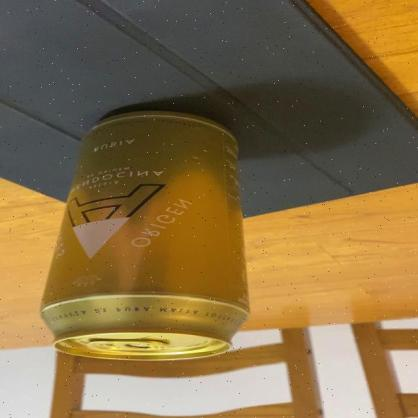can: (41, 112, 250, 362)
